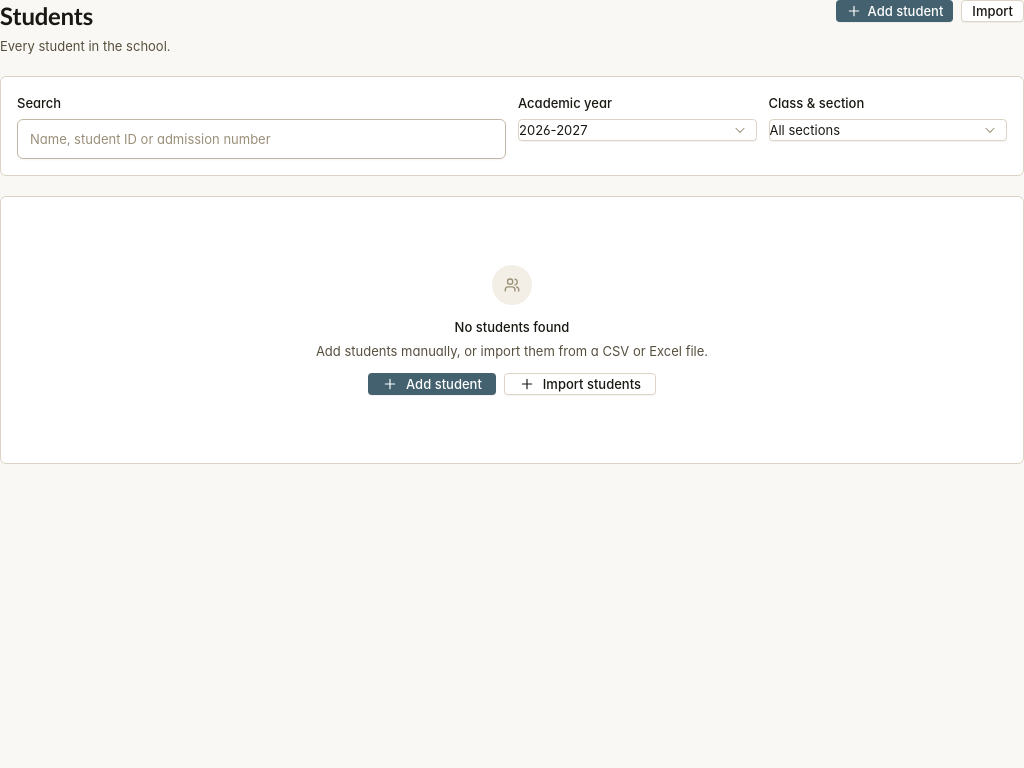
Test case: Students — Add student dialog › opens without throwing when the optional fields default to null
Step 1. Click the 1st button "Add student" → (894, 11), box [836,0,953,22]
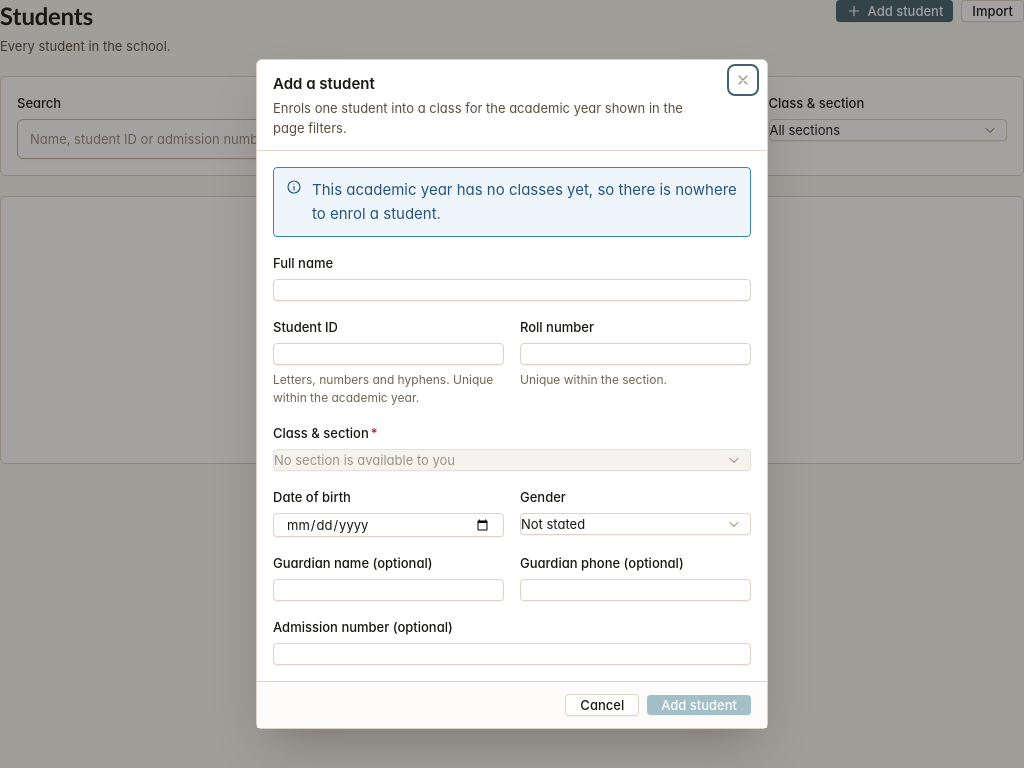
Now the dialog is shown, box [256,59,768,729]
Now the field labelled "Full name" is shown, box [273,279,751,301]
Now the field labelled "Admission number (optional)" is empty, box [273,643,751,665]
